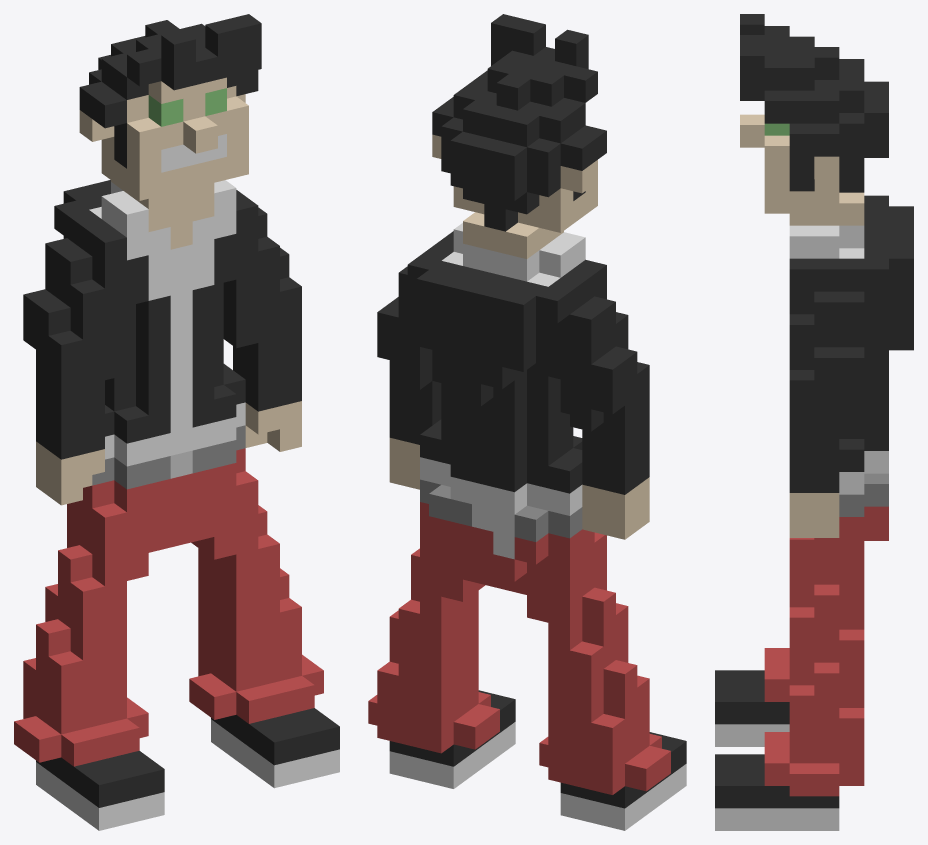
The model's file is man2_v1.fbx.
3 renders of one model, left to right at view 1: azimuth 30°, elevation 25°; view 2: azimuth 150°, elevation 25°; view 3: azimuth 270°, elevation 25°, orthographic. The views are drawn at different scales.
Parts seen in each view (by area): view 1: man2; view 2: man2; view 3: man2.
Part boxes in pixels (left/top/right/bottom): man2: left=14, top=14, right=339, bottom=830; man2: left=368, top=14, right=686, bottom=830; man2: left=715, top=14, right=913, bottom=830.
Bounding box in the file's own units: 13 × 33 × 8.
